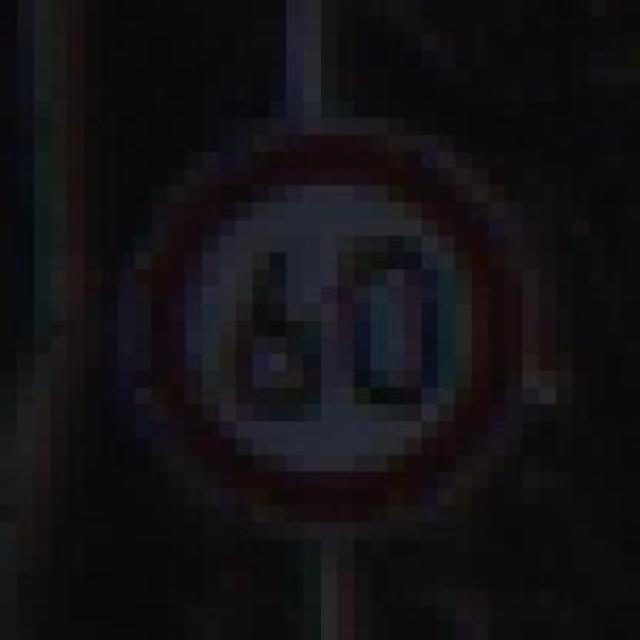forb_speed_over_60: (138, 132, 518, 526)
